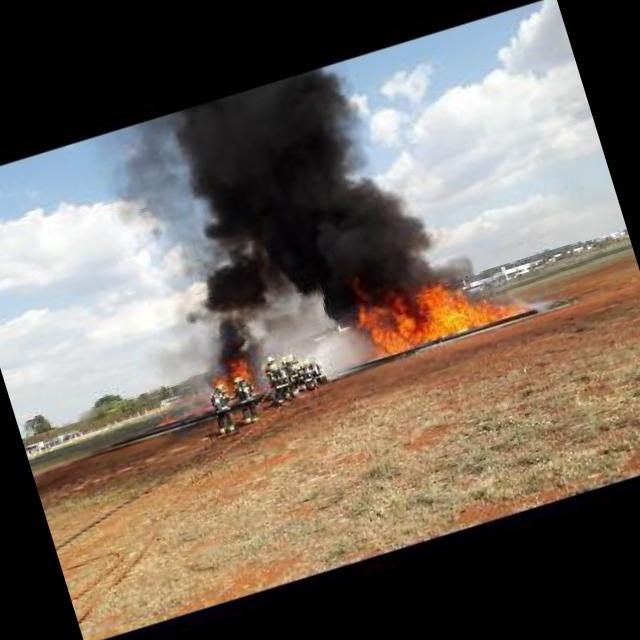fire: (348, 253, 524, 364), (225, 356, 253, 381), (216, 373, 232, 392), (158, 414, 174, 426)
smoke: (185, 55, 428, 326), (169, 236, 289, 372)
